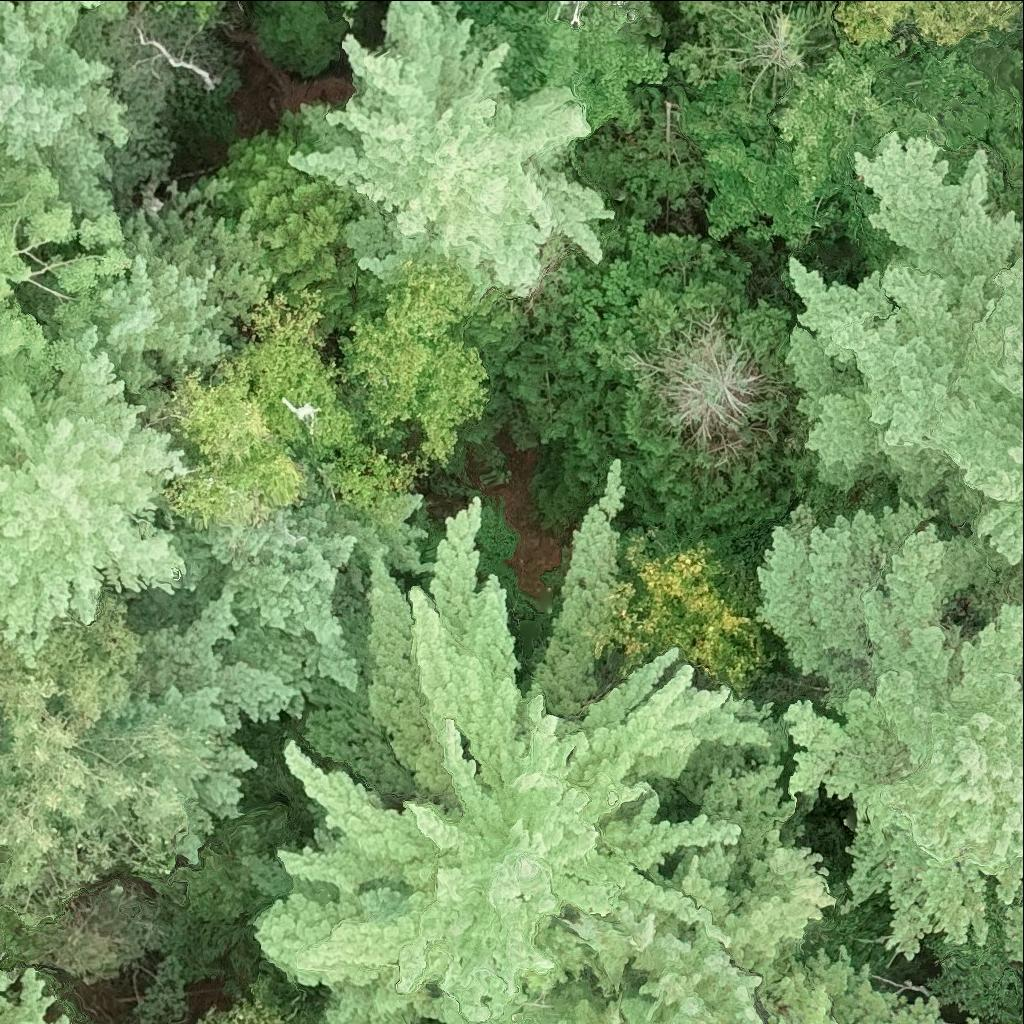crown: (246, 459, 787, 1023), (80, 498, 433, 866), (483, 761, 944, 1023), (759, 501, 1023, 949), (789, 134, 1023, 559), (294, 0, 612, 289), (678, 26, 1023, 275), (132, 281, 423, 537), (0, 568, 184, 926), (0, 319, 188, 664), (0, 150, 132, 467), (335, 258, 507, 461), (86, 213, 233, 397), (467, 0, 663, 134), (0, 0, 122, 213), (667, 0, 832, 107), (147, 179, 268, 322), (837, 0, 1023, 45), (0, 967, 62, 1023), (100, 0, 215, 11), (551, 0, 587, 22), (1012, 906, 1023, 968), (605, 0, 639, 14), (0, 970, 16, 997), (425, 1018, 439, 1023)
